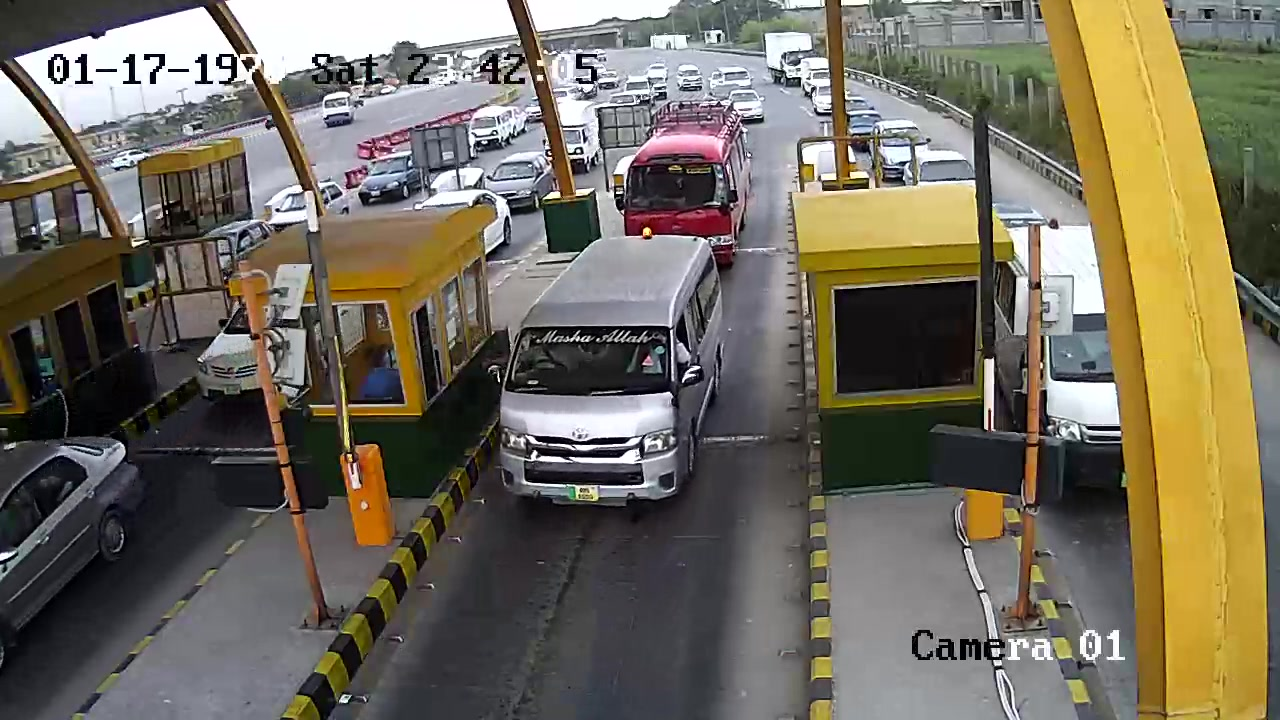F3: (500, 230, 721, 518)
